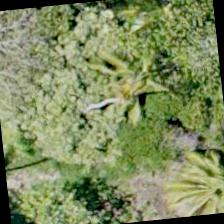Kelapa_Sawit: (166, 142, 223, 218), (115, 0, 210, 45)
